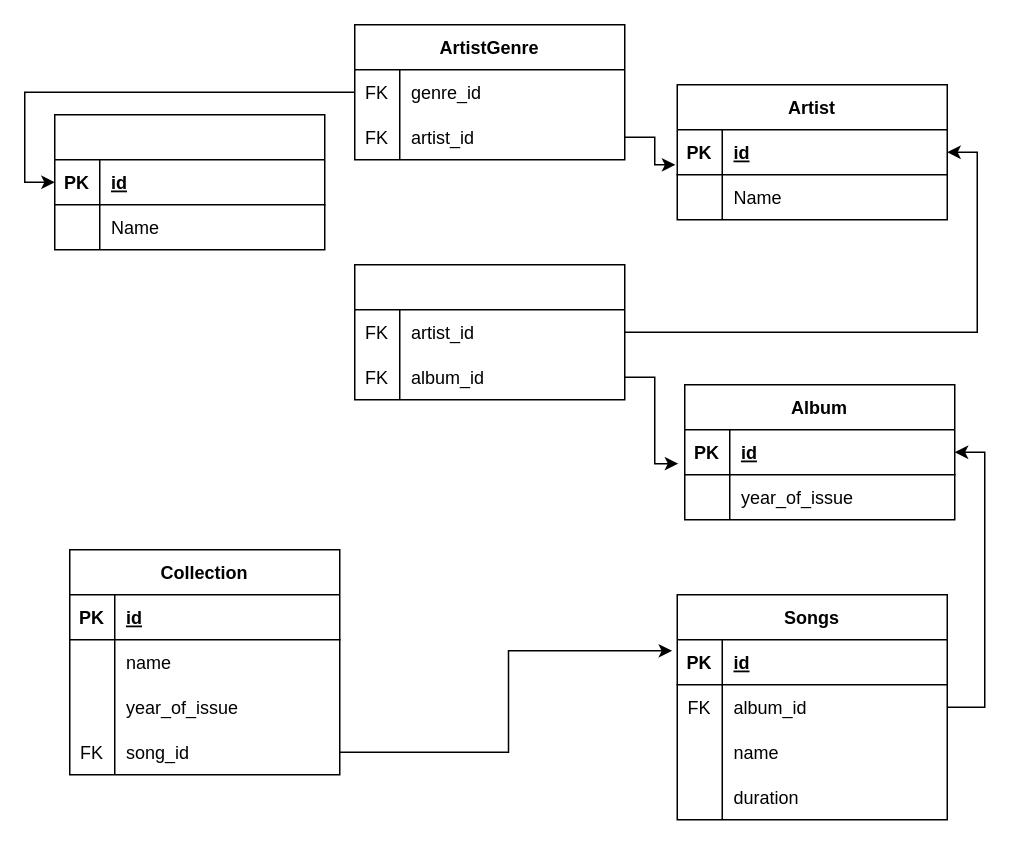
Some shapes in this 1010 by 845 pixel diagram are drawn without their labels. Each missing label, with the box of its shape:
ArtistAlbum: (353, 263, 625, 400)
Genre: (53, 113, 325, 250)
